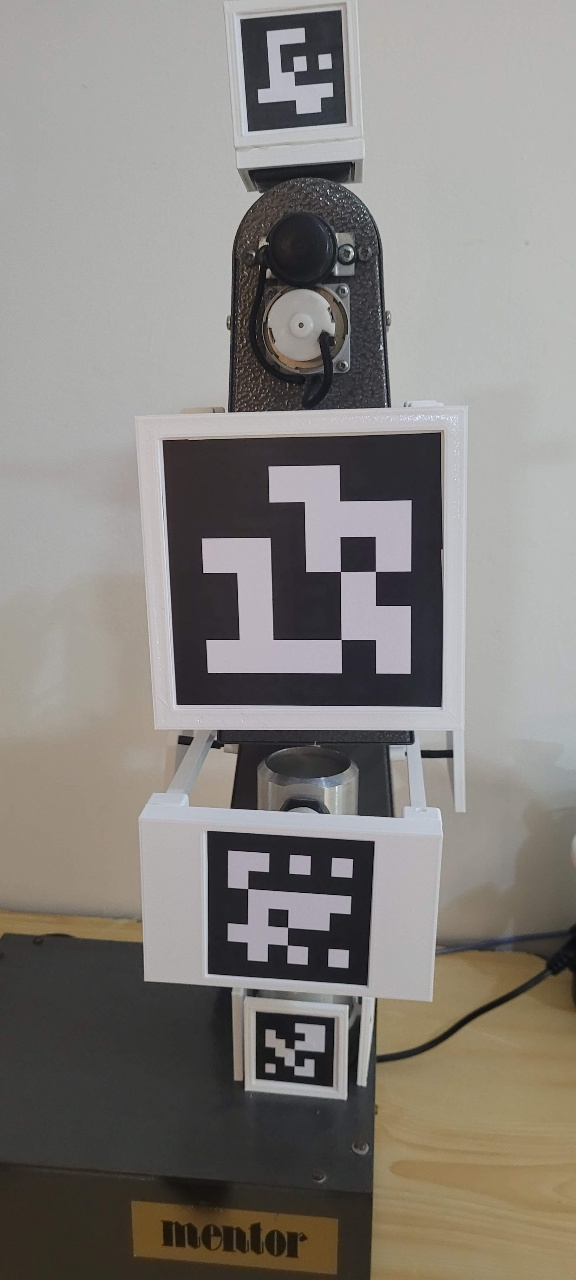Robot: (128, 2, 480, 1113)
